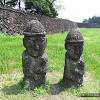Stone Statue: (18, 17, 50, 95), (58, 27, 88, 92)
